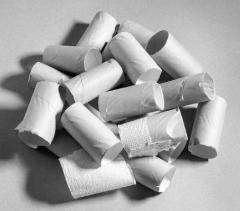paper: (98, 72, 214, 122), (59, 102, 122, 167), (58, 148, 136, 200), (118, 107, 188, 159), (14, 81, 66, 149), (60, 59, 125, 106), (108, 32, 162, 84), (98, 80, 164, 122), (188, 96, 227, 158), (125, 155, 176, 193), (75, 10, 119, 52), (42, 44, 102, 74), (27, 62, 71, 88)
